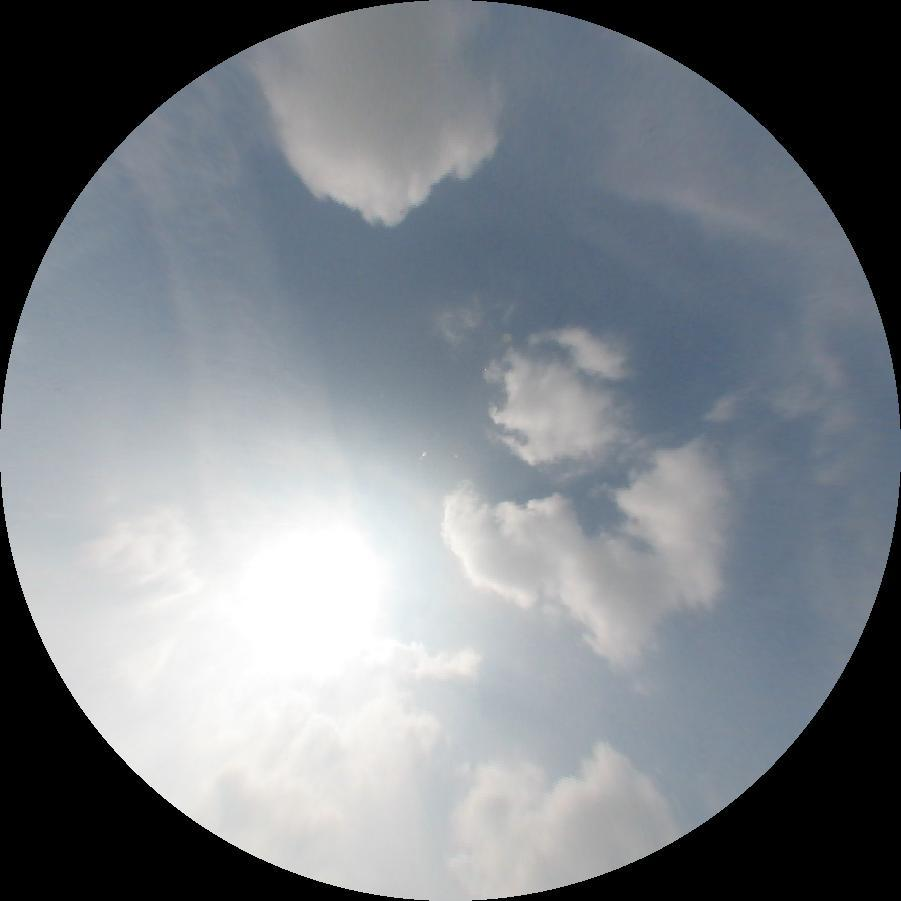sun: (235, 524, 382, 659)
